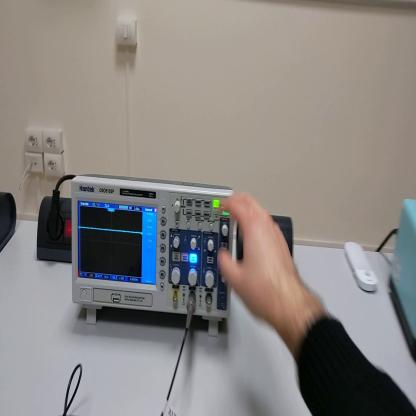hand: (217, 189, 298, 327)
socket: (39, 195, 70, 265), (1, 190, 18, 253)
welder station: (389, 197, 416, 361)
